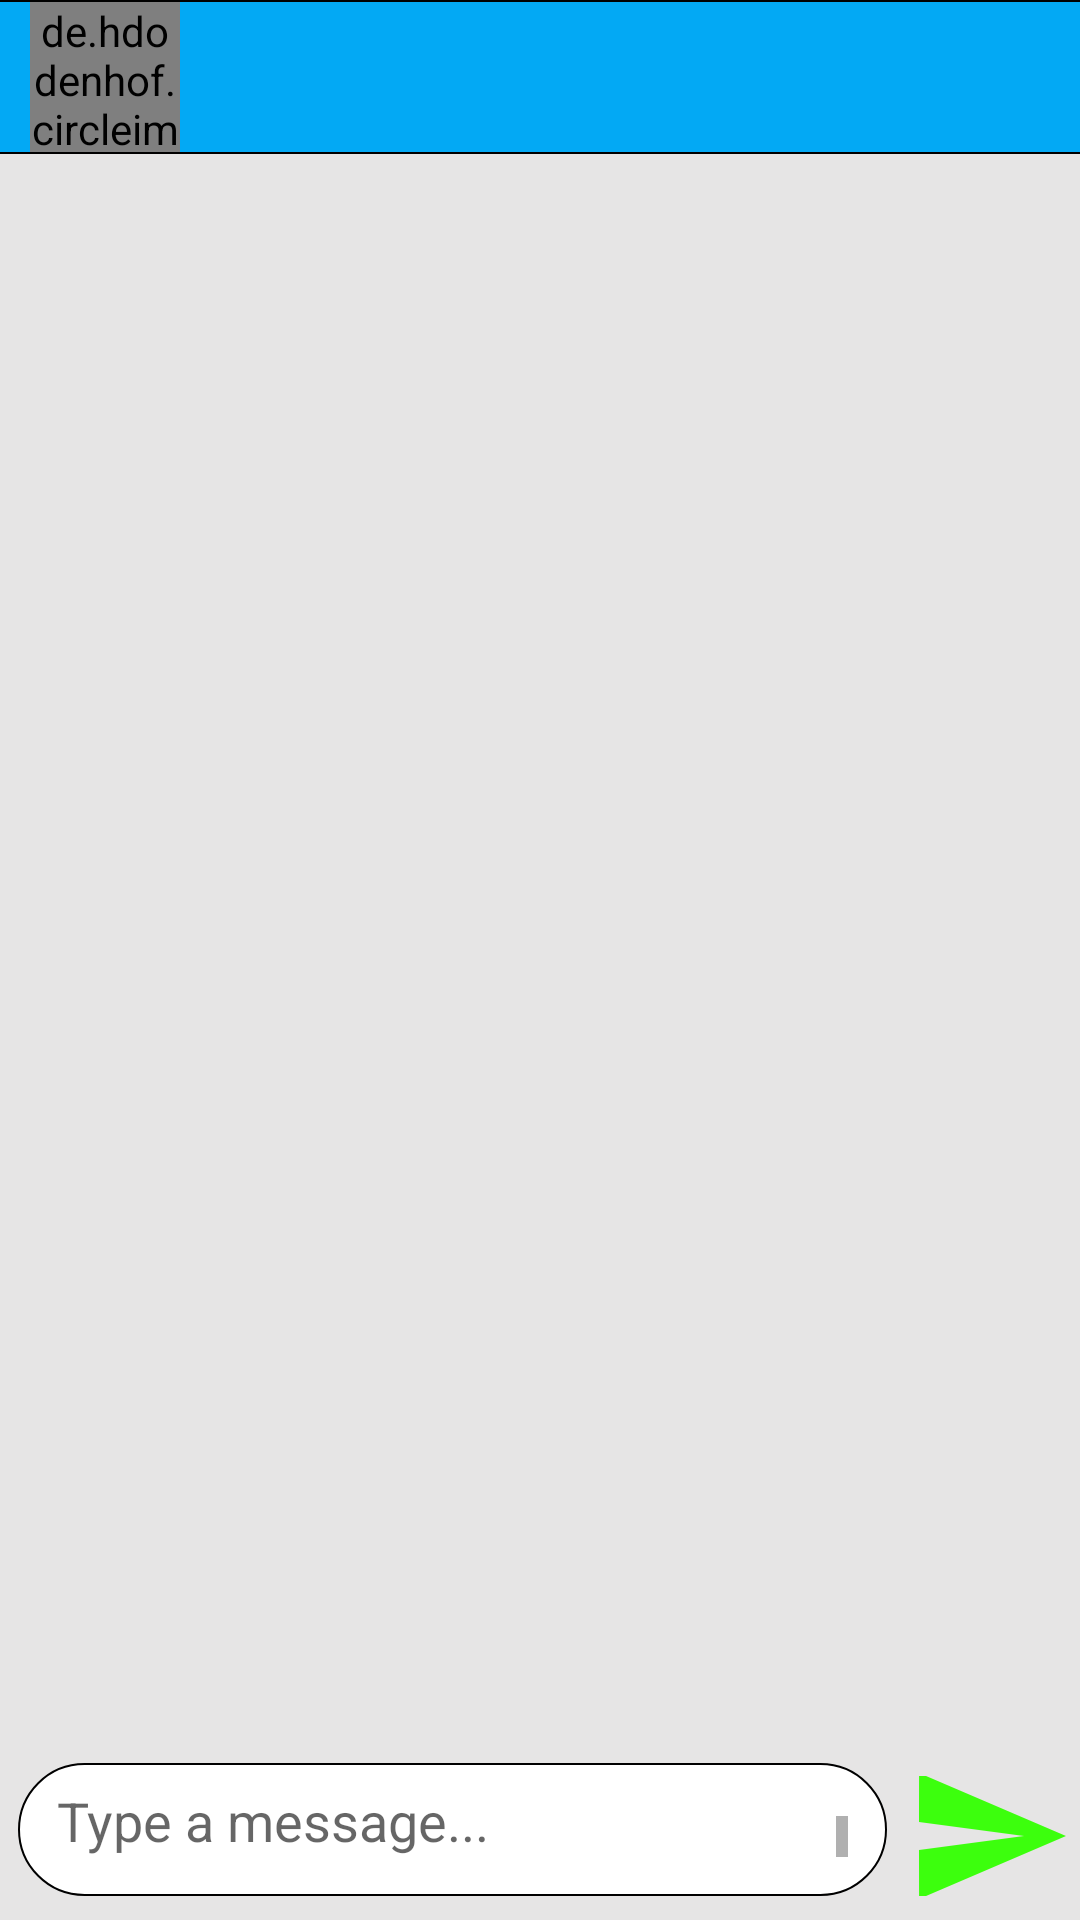

Named icons in this screenshot (1080px×1920px) and their centers, point (x, y):
send: point (992, 1836)
